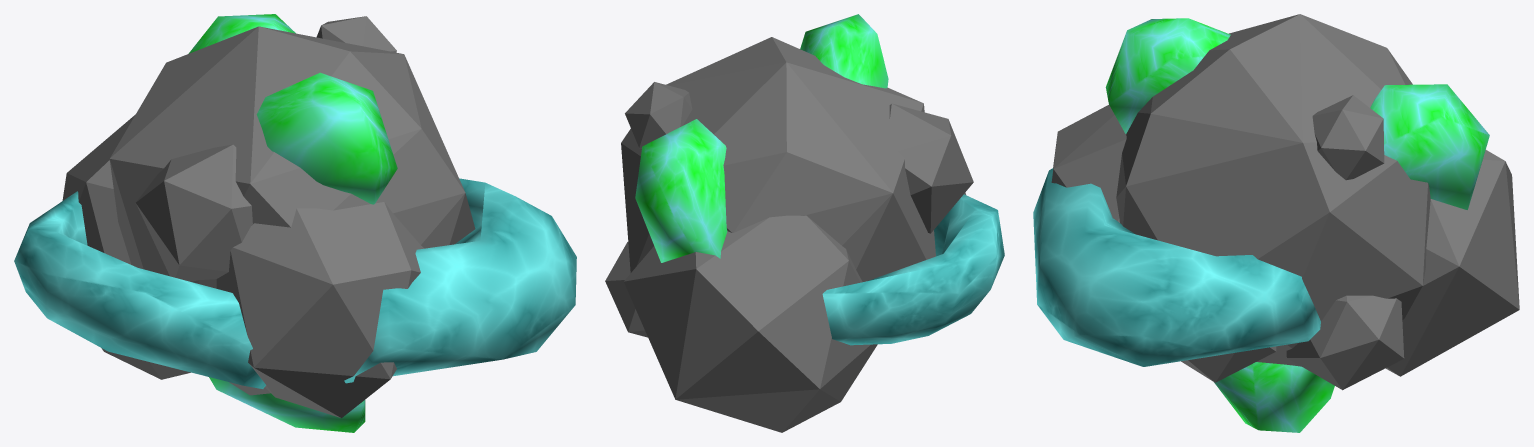
The model's file is WaterstoneOre_blender.fbx.
The picture shows the model from 3 angles, left to right: view 1: azimuth 30°, elevation 25°; view 2: azimuth 150°, elevation 25°; view 3: azimuth 270°, elevation 25°; orthographic projection. The views are drawn at different scales.
Parts seen in each view (by area): view 1: StoneOre.034, WaterstoneParticle.035; view 2: StoneOre.034, WaterstoneParticle.035; view 3: StoneOre.034, WaterstoneParticle.035.
Part boxes in pixels (x1,y1,x2,y2): StoneOre.034: [62, 16, 475, 418]; WaterstoneParticle.035: [14, 14, 576, 432]; StoneOre.034: [605, 37, 973, 432]; WaterstoneParticle.035: [635, 14, 1004, 345]; StoneOre.034: [1051, 14, 1519, 390]; WaterstoneParticle.035: [1033, 18, 1489, 432].
Bounding box in the file's own units: 288 × 247 × 279.
